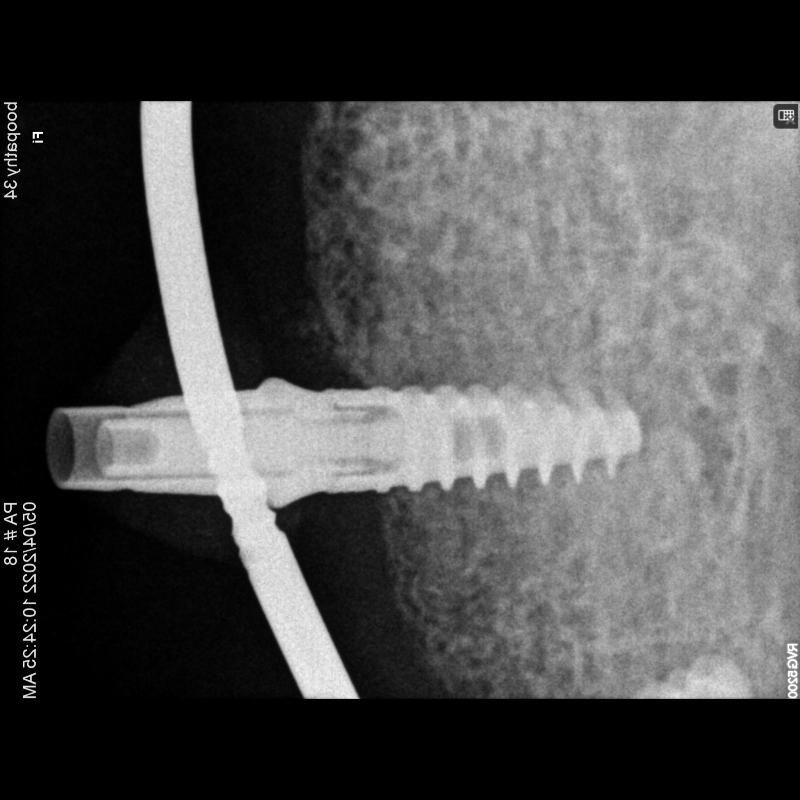ADIN: (298, 361, 662, 542)
